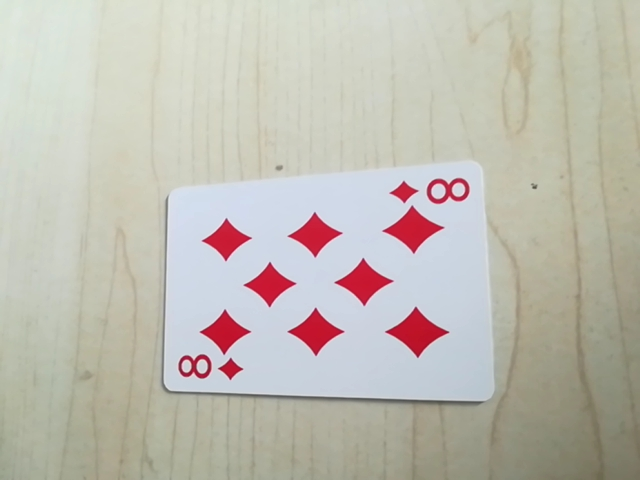fk 8: (387, 170, 473, 210), (171, 350, 244, 389)
